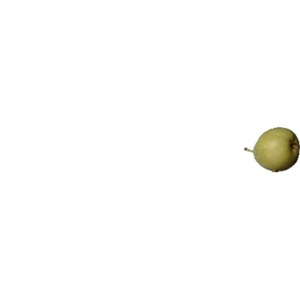pera: (244, 126, 300, 173)
